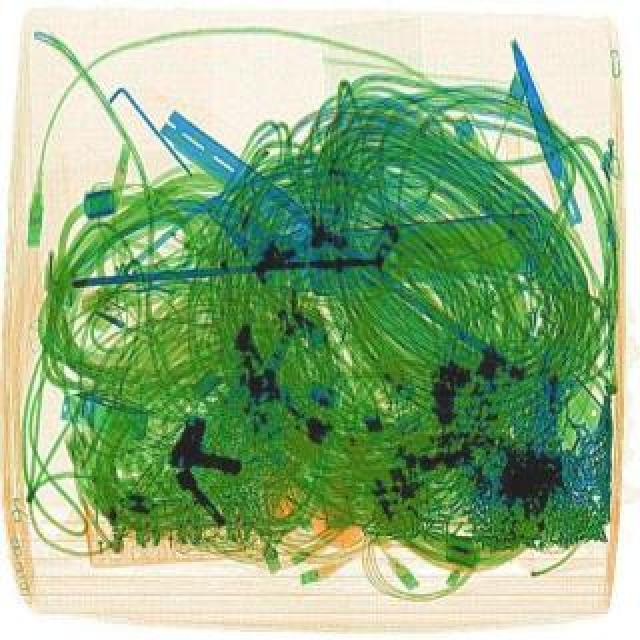gun: (168, 412, 248, 476)
